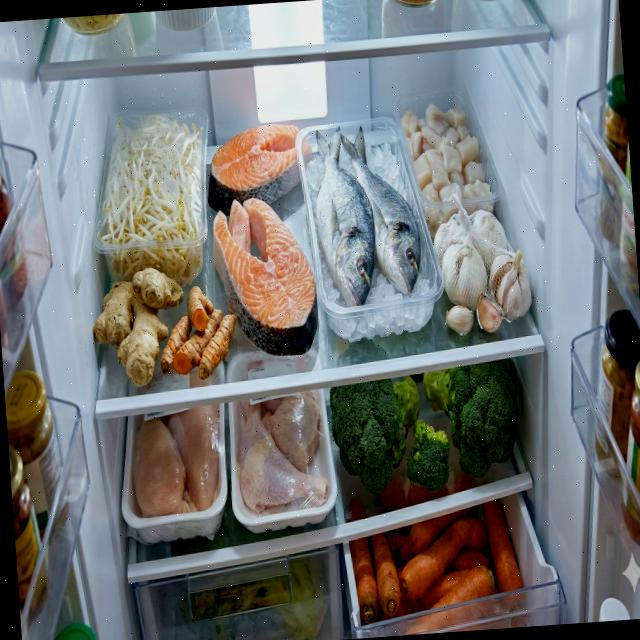bean_sprouts: (89, 112, 214, 290)
brocolli: (328, 373, 452, 498), (421, 358, 525, 482)
carrot: (347, 497, 526, 638)
chicken: (232, 388, 330, 516), (128, 403, 226, 518)
fish: (310, 120, 424, 308), (209, 193, 321, 360), (202, 121, 316, 218)
garlic: (431, 206, 533, 337)
ginger: (90, 264, 190, 390)
turmeric: (156, 283, 240, 383)
